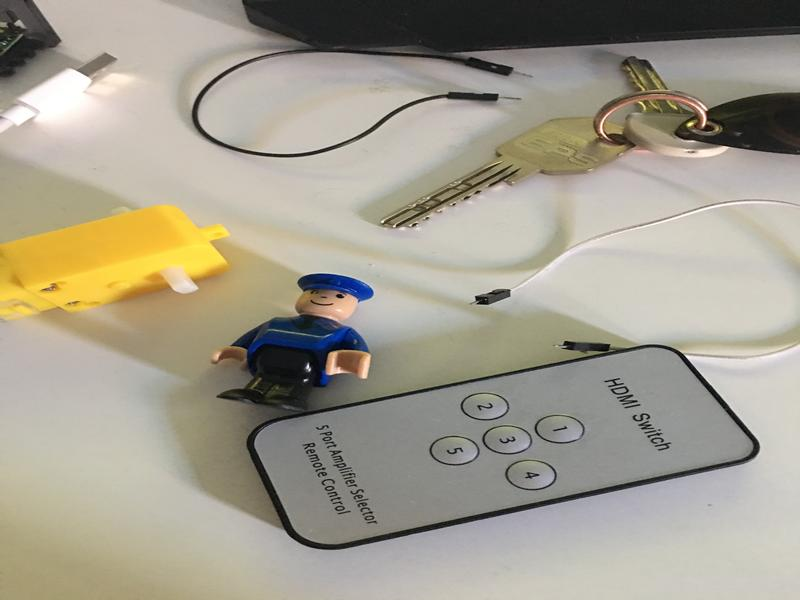person: (212, 272, 377, 413)
